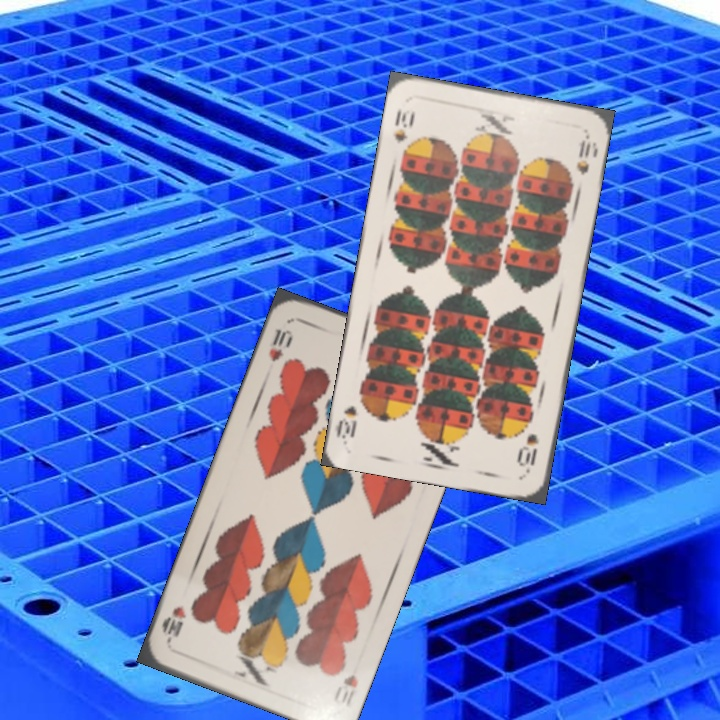H10: (264, 324, 296, 365), (337, 670, 361, 709)
S10: (516, 430, 542, 475), (390, 106, 417, 147)
